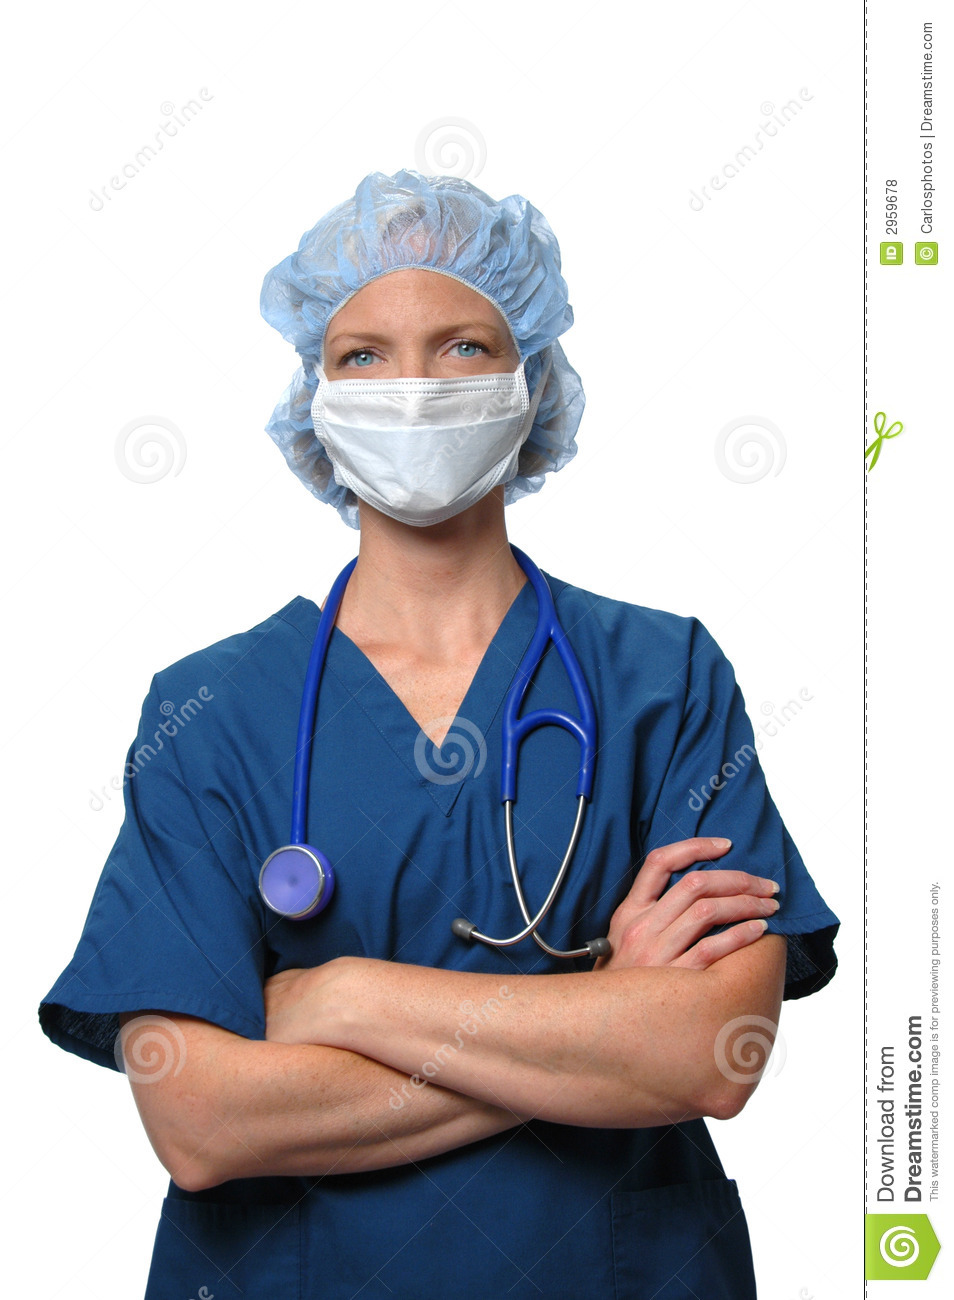mask: (325, 369, 543, 531)
